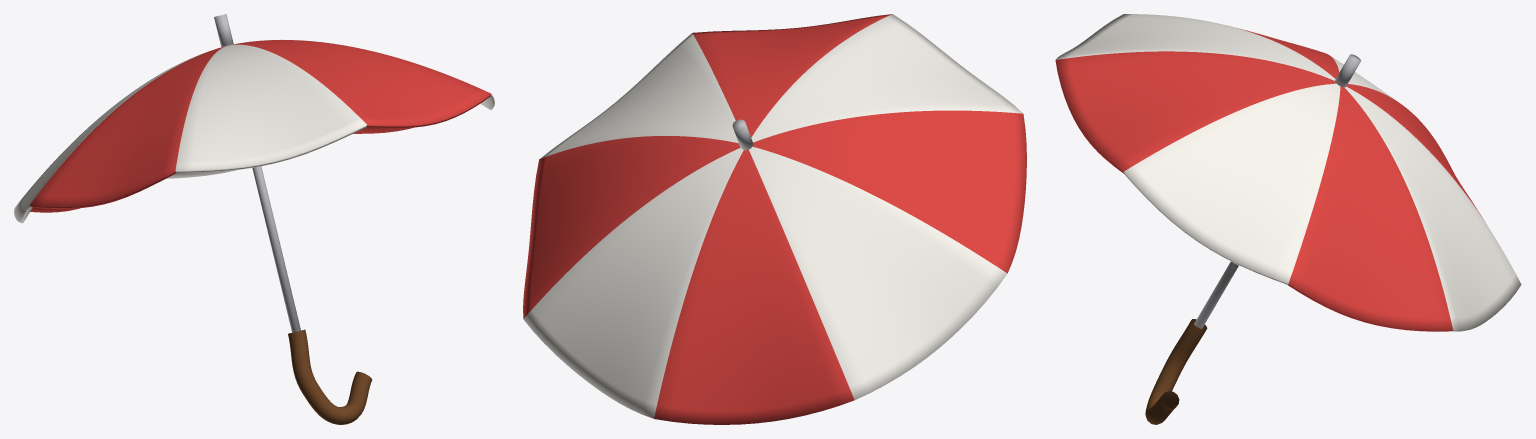
The model's file is umbrella.glb.
The picture shows the model from 3 angles, left to right: view 1: azimuth 30°, elevation 25°; view 2: azimuth 150°, elevation 25°; view 3: azimuth 270°, elevation 25°; orthographic projection. The views are drawn at different scales.
Visible parts, largest first — view 1: umbrella_body; view 2: umbrella_body; view 3: umbrella_body.
Boxes of the visible parts, <box> form: umbrella_body: <box>14,14,494,424</box>; umbrella_body: <box>523,14,1026,424</box>; umbrella_body: <box>1055,14,1521,424</box>.
Size of the model in its own units: 0.27 by 0.2016 by 0.2384.
